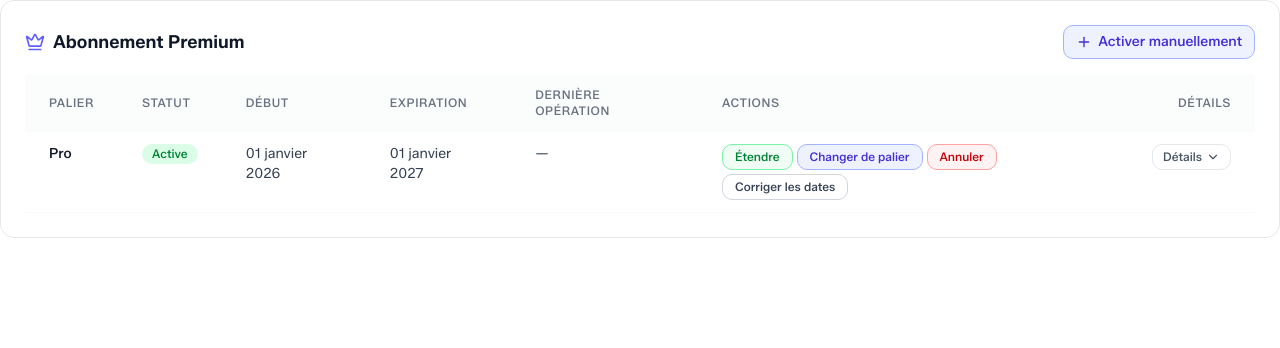
Test: AdminFaceSubscriptionSection › renders a zero audit count for subscriptions without audits
The audit count lives in the row drill-down panel (FP-2.16).
Step 1. Click the button with test id "subscription-expand-sub-no-audit" → (1192, 157), box [1152,144,1231,170]
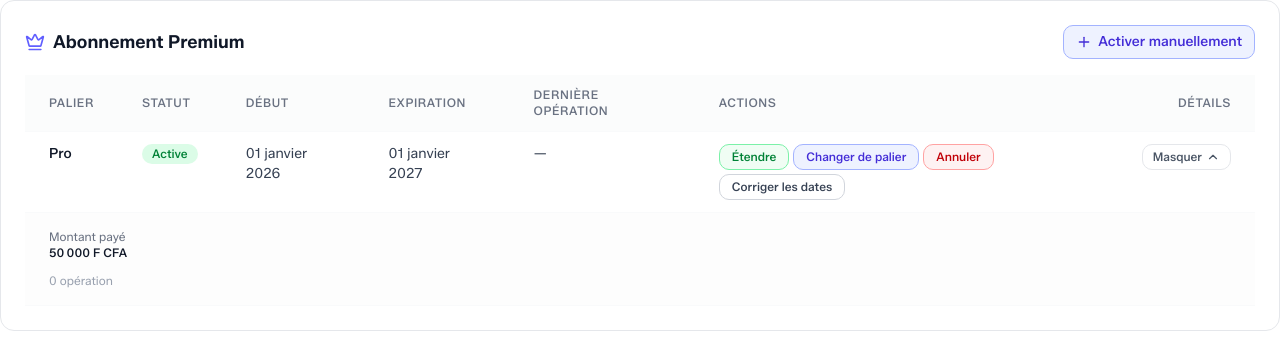
Result: the text with test id "audit-count-sub-no-audit" reads "0 opération" at [49,273,113,288]
